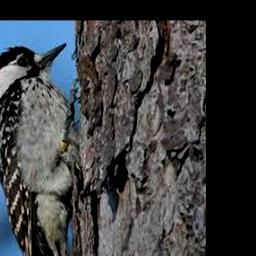Woodpecker: (0, 43, 104, 256)
